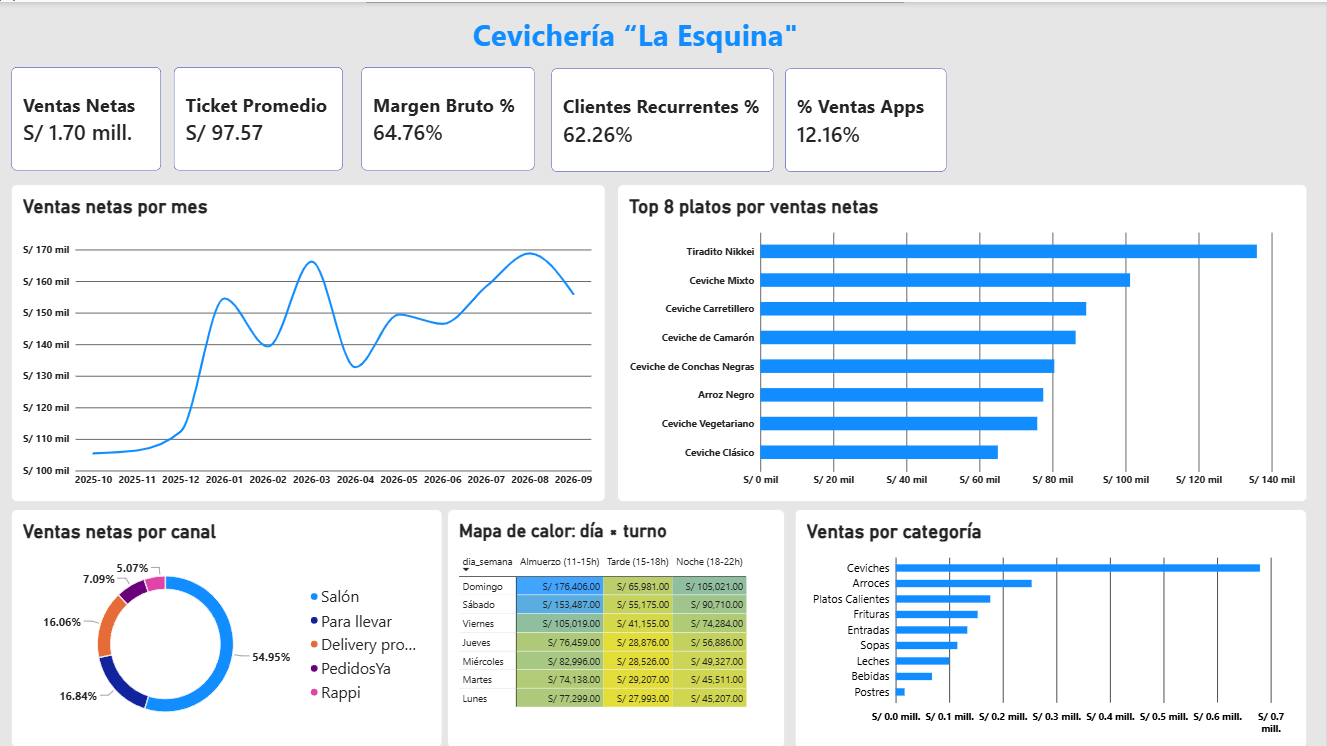

This screenshot's page, from the dashboard's own definition file:
{"tool":"powerbi","page":{"name":"Resumen","canvas":[1920,1080],"ordinal":0},"visuals":[{"type":"textbox","box":[529.5,0,779.5,125],"z":0},{"type":"cardVisual","title":"Ventas Netas","fields":{"Data":["Dim_Canal.Ventas Netas"]},"box":[16.3,94.1,217.2,150.2],"z":1000},{"type":"cardVisual","title":"Ventas Netas","fields":{"Data":["Dim_Canal.Ticket Promedio"]},"box":[251.5,94.1,245.5,150],"z":2000},{"type":"cardVisual","title":"Ventas Netas","fields":{"Data":["Dim_Canal.Margen Bruto %"]},"box":[523,94.1,251.5,150.2],"z":3000},{"type":"cardVisual","title":"Ventas Netas","fields":{"Data":["Dim_Canal.Clientes Recurrentes %"]},"box":[798.1,95.9,322.7,150],"z":4000},{"type":"cardVisual","title":"Ventas Netas","fields":{"Data":["Dim_Canal.% Ventas Apps"]},"box":[1136.5,95.9,234.1,150],"z":5000},{"type":"lineChart","title":"Ventas netas por mes","fields":{"Category":["Dim_Fecha.anio_mes"],"Y":["Dim_Canal.Ventas Netas"]},"box":[16.5,263.5,860.4,459],"z":6000},{"type":"clusteredBarChart","title":"Top 8 platos por ventas netas","fields":{"Category":["Dim_Plato.nombre_plato"],"Y":["Dim_Canal.Ventas Netas"]},"box":[893.3,263.5,998.3,459],"z":7000},{"type":"donutChart","title":"Ventas netas por canal","fields":{"Category":["Dim_Canal.canal"],"Y":["Dim_Canal.Ventas Netas"]},"box":[16.5,734.8,623.7,343.7],"z":8000},{"type":"pivotTable","title":"Mapa de calor: día × turno","fields":{"Columns":["Dim_Turno.turno"],"Rows":["Dim_Fecha.dia_semana"],"Values":["Dim_Canal.Ventas Netas"]},"box":[648.4,734.8,487.8,345.8],"z":9000},{"type":"clusteredBarChart","title":"Ventas por categoría","fields":{"Category":["Dim_Plato.categoria Jerarquía.categoria","Dim_Plato.categoria Jerarquía.nombre_plato"],"Y":["Dim_Canal.Ventas Netas"]},"box":[1150.6,734.8,741,345.8],"z":10000}]}

Visuals, with their boxes in screenshot pixels (x1, y1, x2, y2), scaled from the page's 1920x1080 canvas onto the 1327x746 screenshot:
textbox: [366,0,905,86]
"Ventas Netas" cardVisual: [11,65,161,169]
"Ventas Netas" cardVisual: [174,65,343,169]
"Ventas Netas" cardVisual: [361,65,535,169]
"Ventas Netas" cardVisual: [552,66,775,170]
"Ventas Netas" cardVisual: [785,66,947,170]
"Ventas netas por mes" lineChart: [11,182,606,499]
"Top 8 platos por ventas netas" clusteredBarChart: [617,182,1307,499]
"Ventas netas por canal" donutChart: [11,508,442,745]
"Mapa de calor: día × turno" pivotTable: [448,508,785,745]
"Ventas por categoría" clusteredBarChart: [795,508,1307,745]
